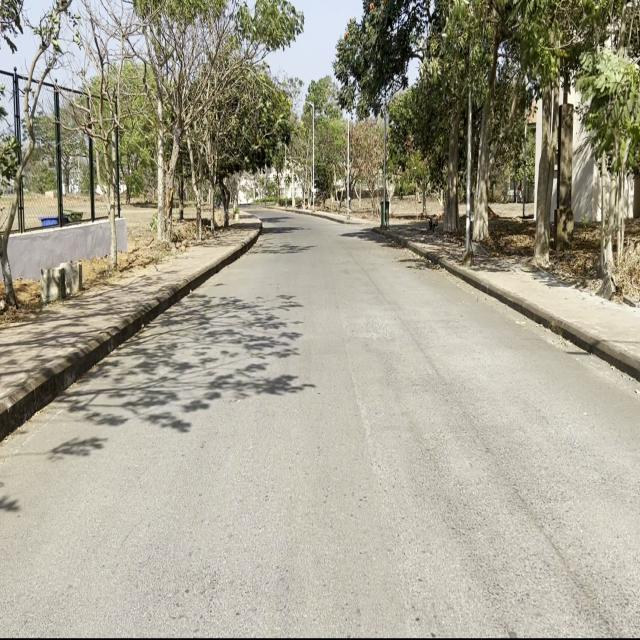Road: (1, 205, 632, 629)
